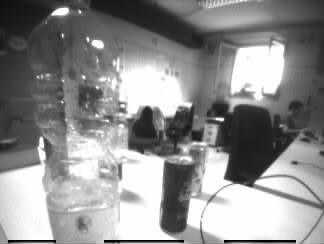Bottle: (31, 1, 119, 241)
Tin can: (160, 157, 192, 231), (189, 142, 208, 193)
